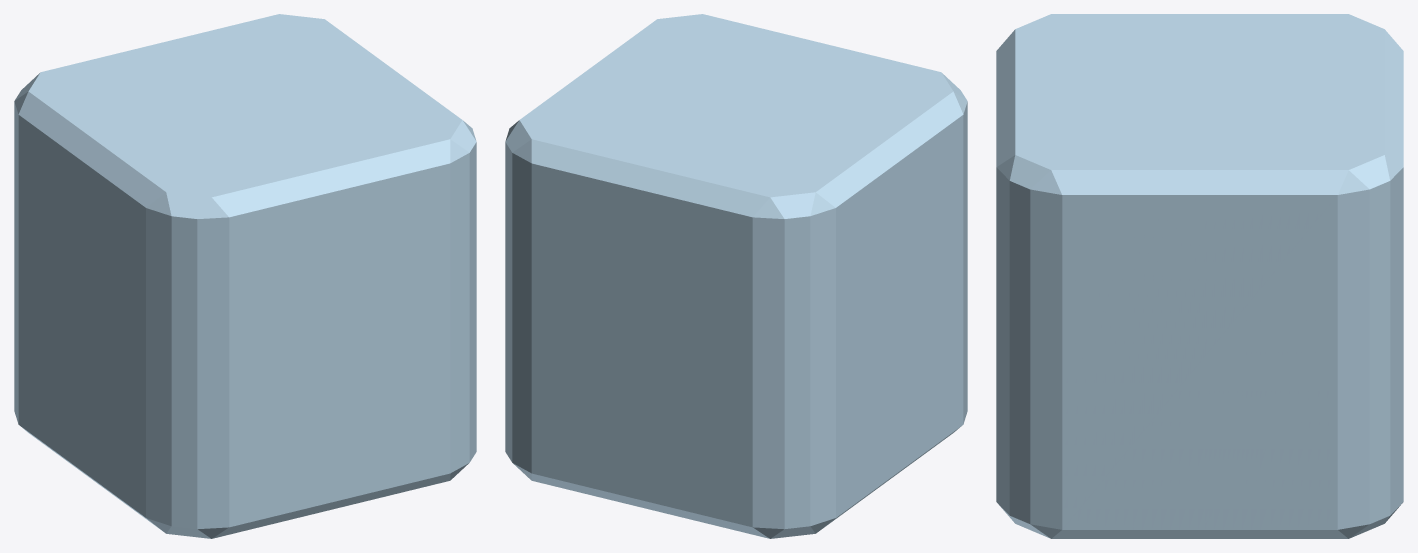
The model's file is R4B_OctColumn_LOD1.glb.
The picture shows the model from 3 angles, left to right: view 1: azimuth 30°, elevation 25°; view 2: azimuth 150°, elevation 25°; view 3: azimuth 270°, elevation 25°; orthographic projection. The views are drawn at different scales.
Parts seen in each view (by area): view 1: R4B_OctColumn_LOD1; view 2: R4B_OctColumn_LOD1; view 3: R4B_OctColumn_LOD1.
Part boxes in pixels (box(x1,y1,x2,y2)): R4B_OctColumn_LOD1: box(14, 14, 476, 538); R4B_OctColumn_LOD1: box(505, 14, 967, 538); R4B_OctColumn_LOD1: box(996, 14, 1403, 538).
Size of the model in its own units: 0.52 by 0.52 by 0.52.
